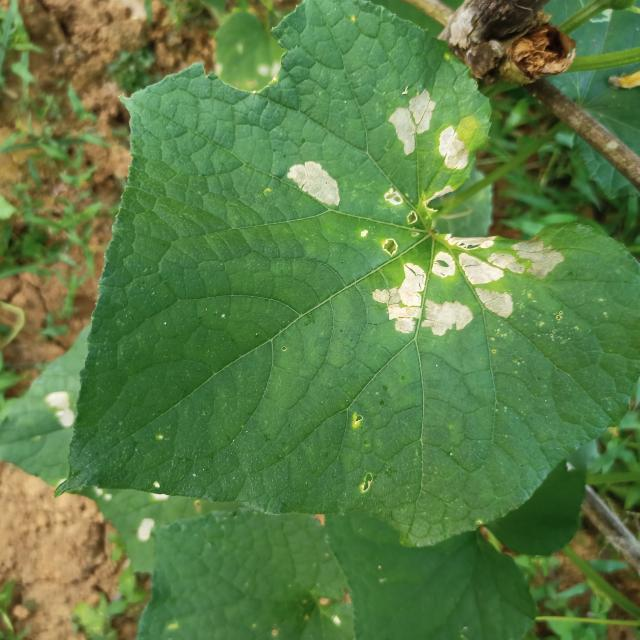disease_cucumber: (367, 226, 566, 341), (386, 88, 439, 160), (283, 157, 345, 210), (436, 122, 471, 174), (380, 187, 423, 227)
